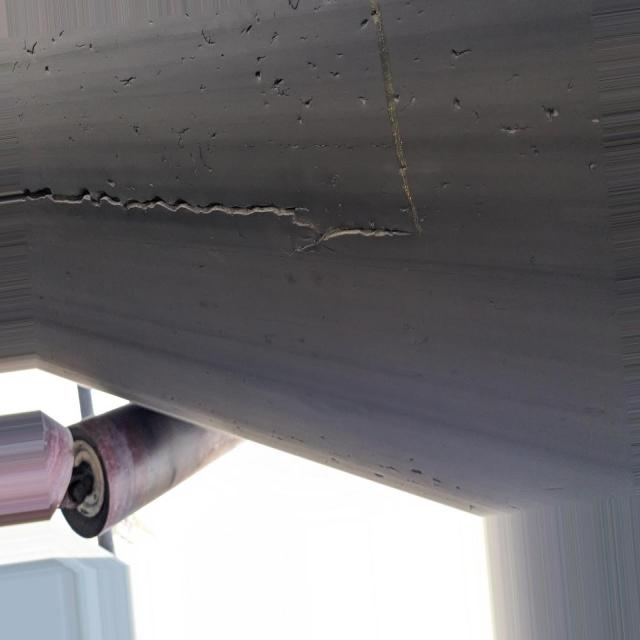Puncture: (440, 50, 564, 148), (229, 0, 311, 119)
Roller: (63, 404, 239, 541)
Tear: (0, 0, 429, 258)
